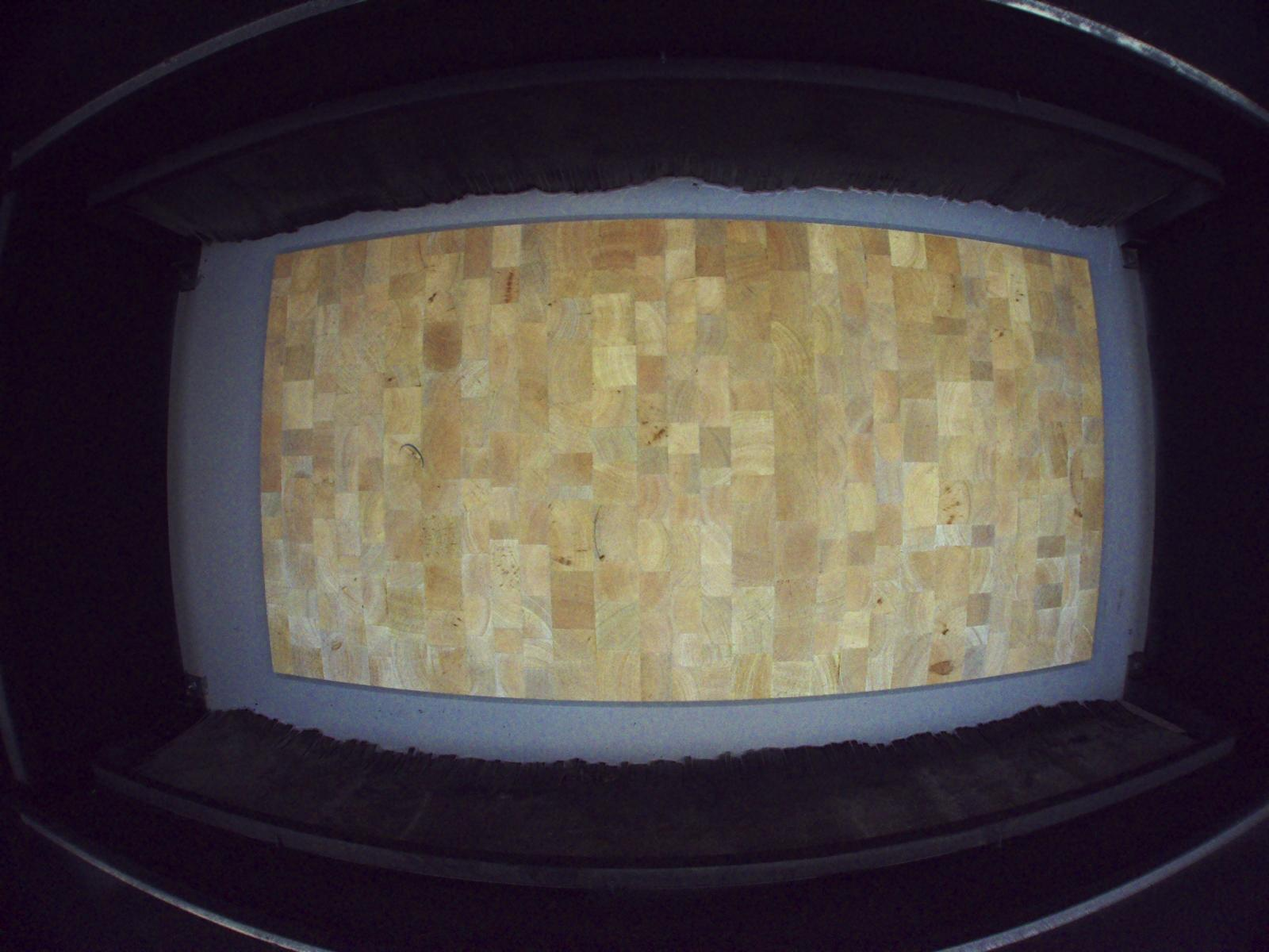nudillo: (404, 445, 422, 460)
sheck_ecuatoriano: (592, 503, 608, 564)
